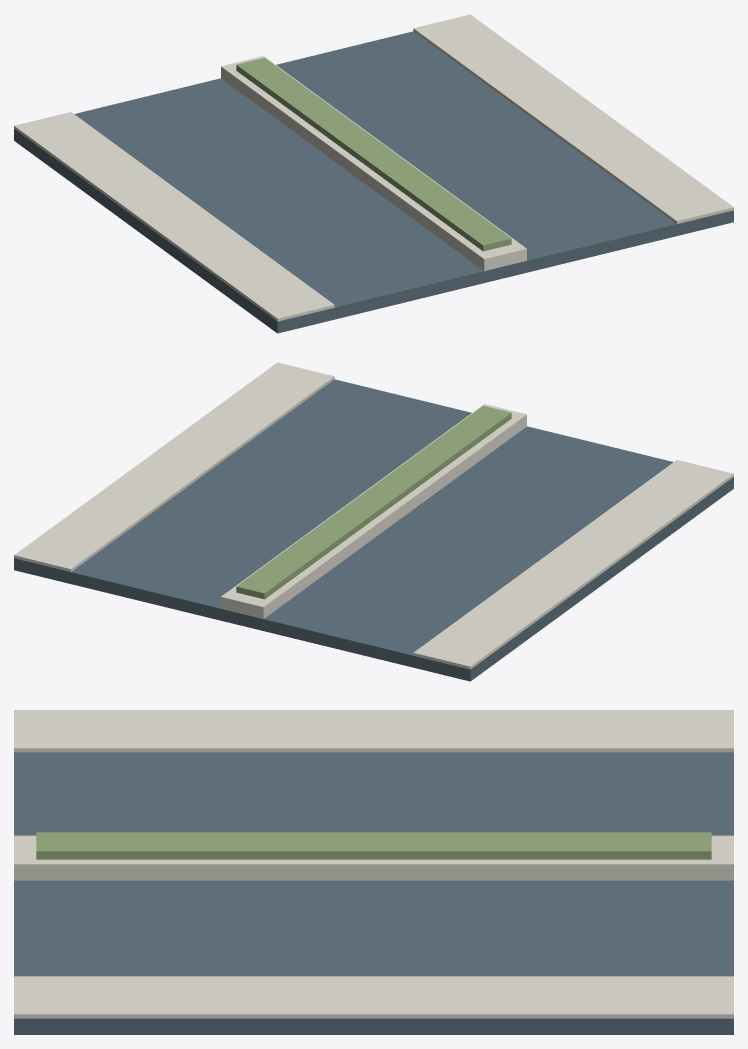
Rendered from voxel-city-districts-road-median-2b6ff915__24823.glb.
3 views of the same model, one above another, from view 1: azimuth 30°, elevation 25°; view 2: azimuth 150°, elevation 25°; view 3: azimuth 270°, elevation 25° (orthographic). The views are drawn at different scales.
Visible parts, largest first — view 1: road-median-dark, road-median-concrete, road-median-green; view 2: road-median-dark, road-median-concrete, road-median-green; view 3: road-median-dark, road-median-concrete, road-median-green.
Part boxes in pixels (x1,y1,x2,y2): road-median-dark: (14, 31, 733, 333); road-median-concrete: (14, 14, 733, 321); road-median-green: (236, 57, 511, 251); road-median-dark: (14, 379, 733, 681); road-median-concrete: (14, 362, 733, 669); road-median-green: (236, 405, 511, 599); road-median-dark: (14, 752, 733, 1034); road-median-concrete: (14, 710, 733, 1018); road-median-green: (36, 832, 711, 859).
Size of the model in its own units: 8 by 0.5 by 8.
